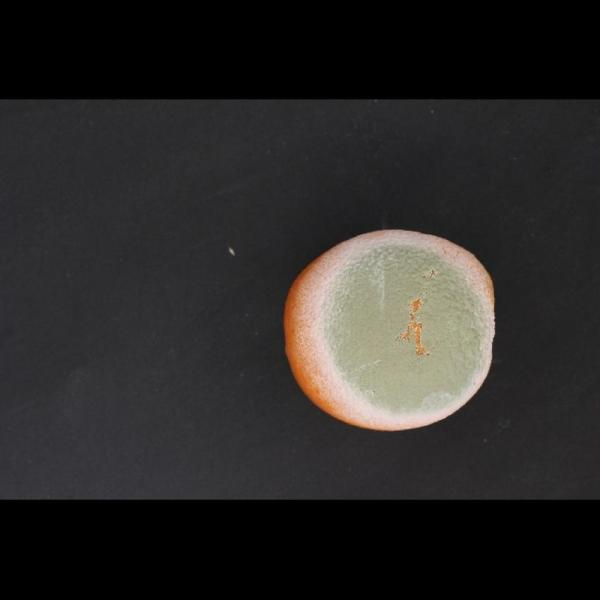Moho verde: (260, 226, 518, 448)
